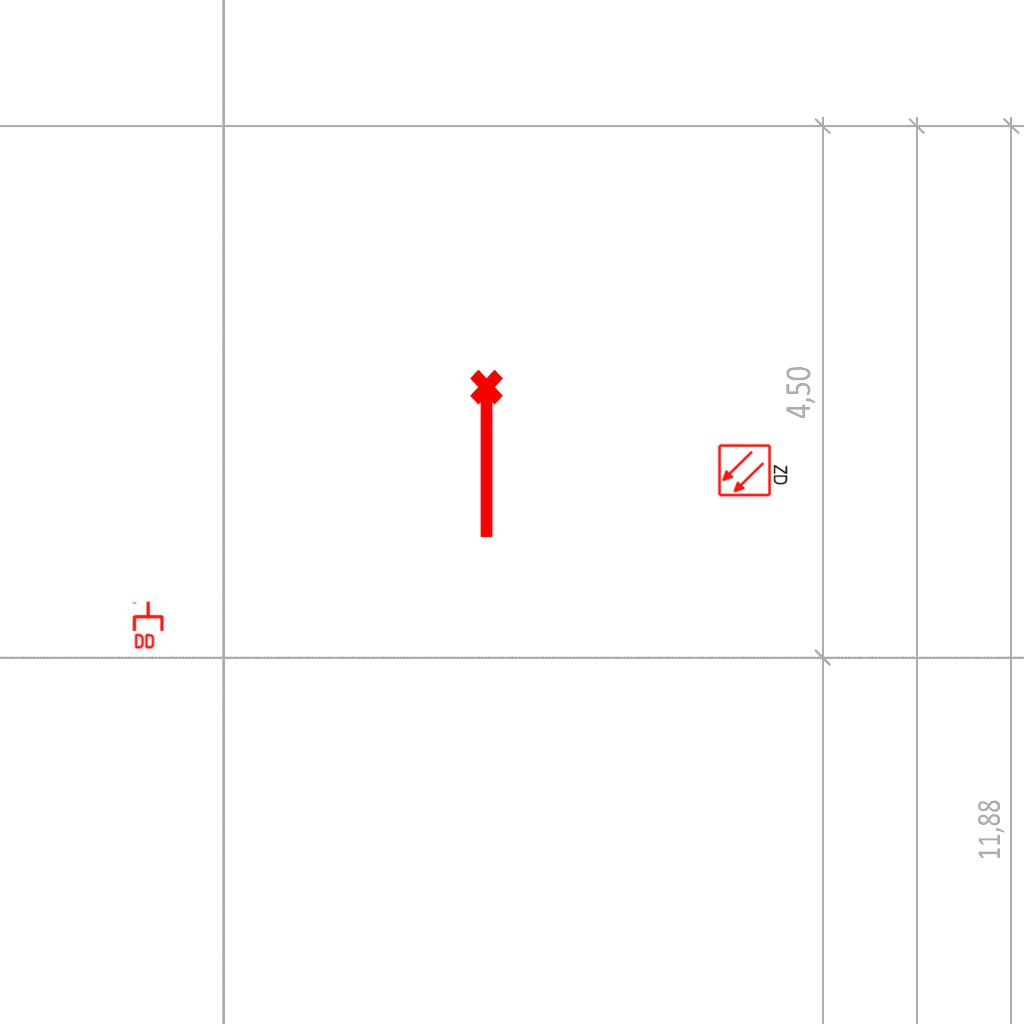ASR_Ansaugoeffnung: (466, 367, 512, 543)
Datenanschluss_zweifach: (132, 600, 166, 651)
ZD_Melder_in_Zwischendecke_mit_Revisionsoeffnung_mind_40_x_40_cm: (717, 441, 791, 498)
